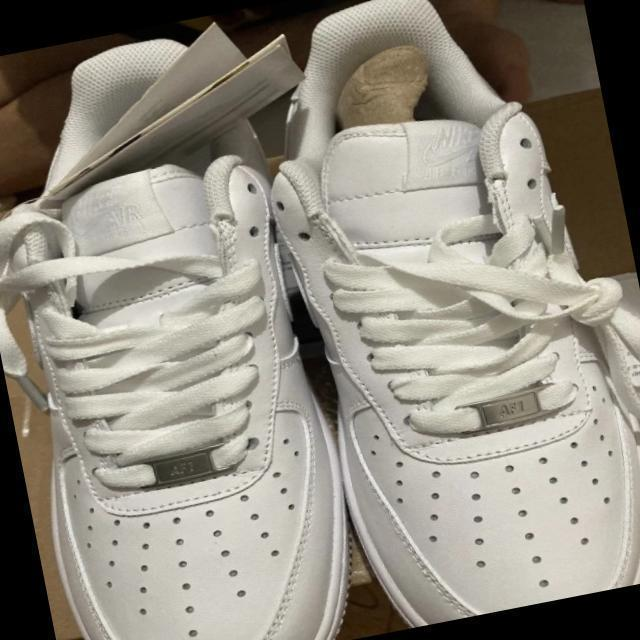nike original air force: (235, 0, 640, 639), (0, 8, 367, 640)
